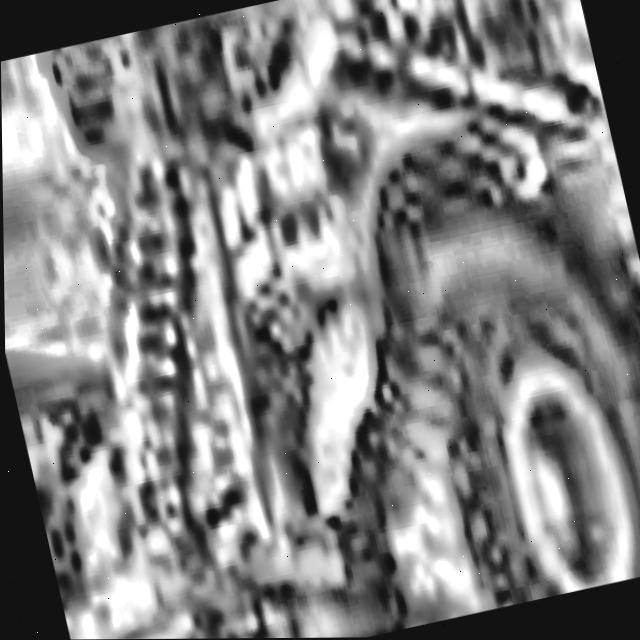dump_truck: (39, 0, 640, 640)
